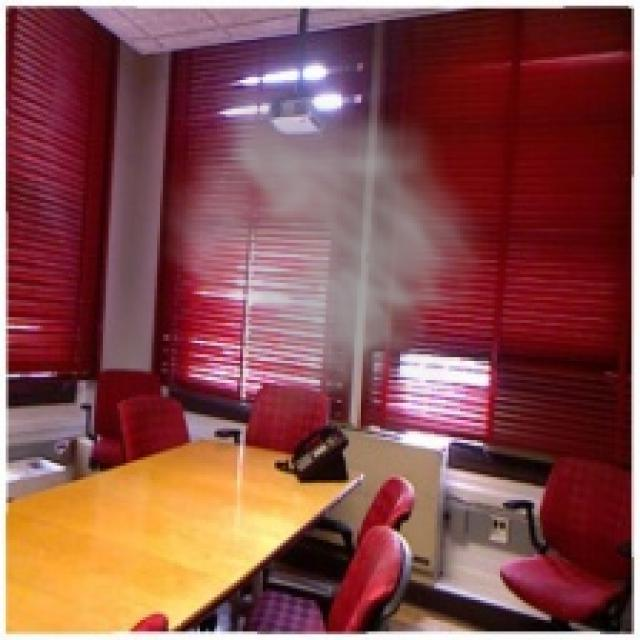Smoke: (148, 92, 498, 434)
